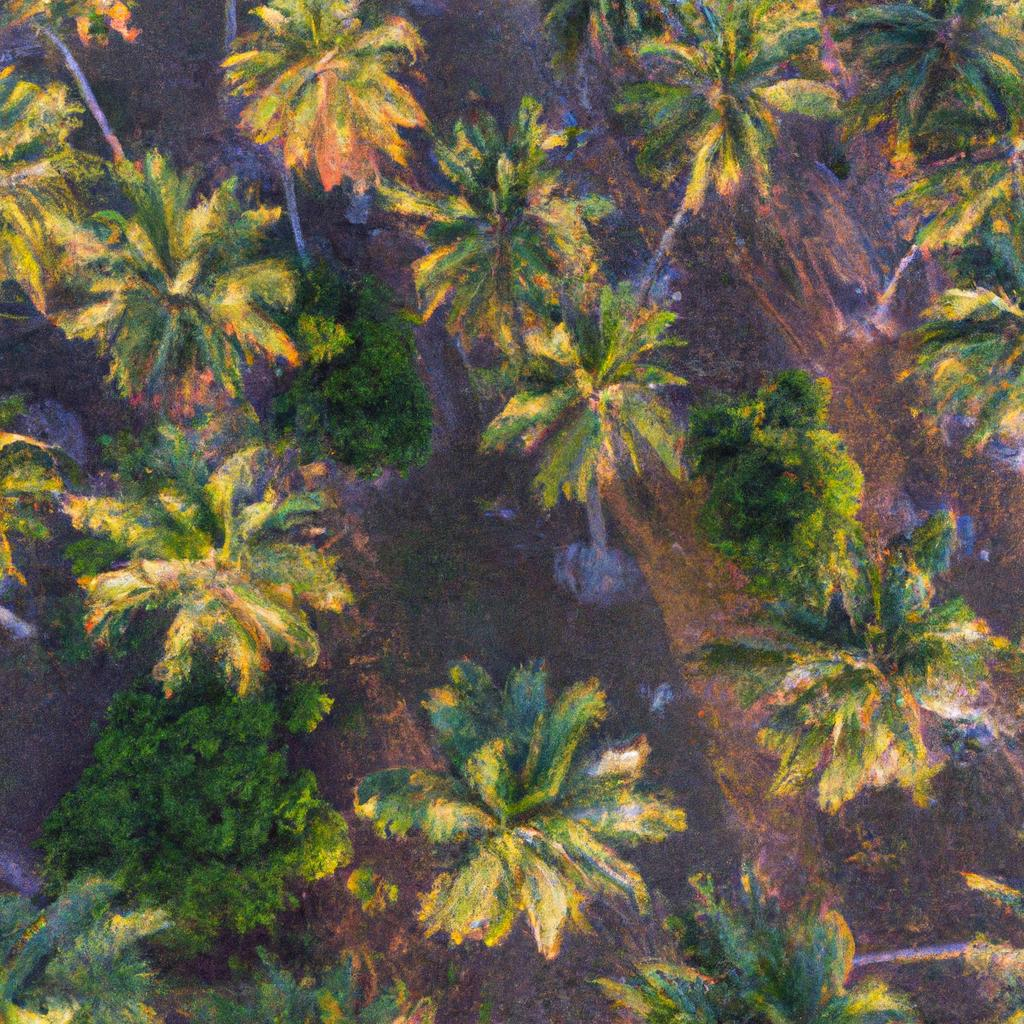coconut_tree: (348, 666, 677, 943), (48, 450, 350, 697), (55, 139, 310, 402), (743, 553, 1015, 790), (199, 1, 432, 188), (402, 118, 602, 313)
